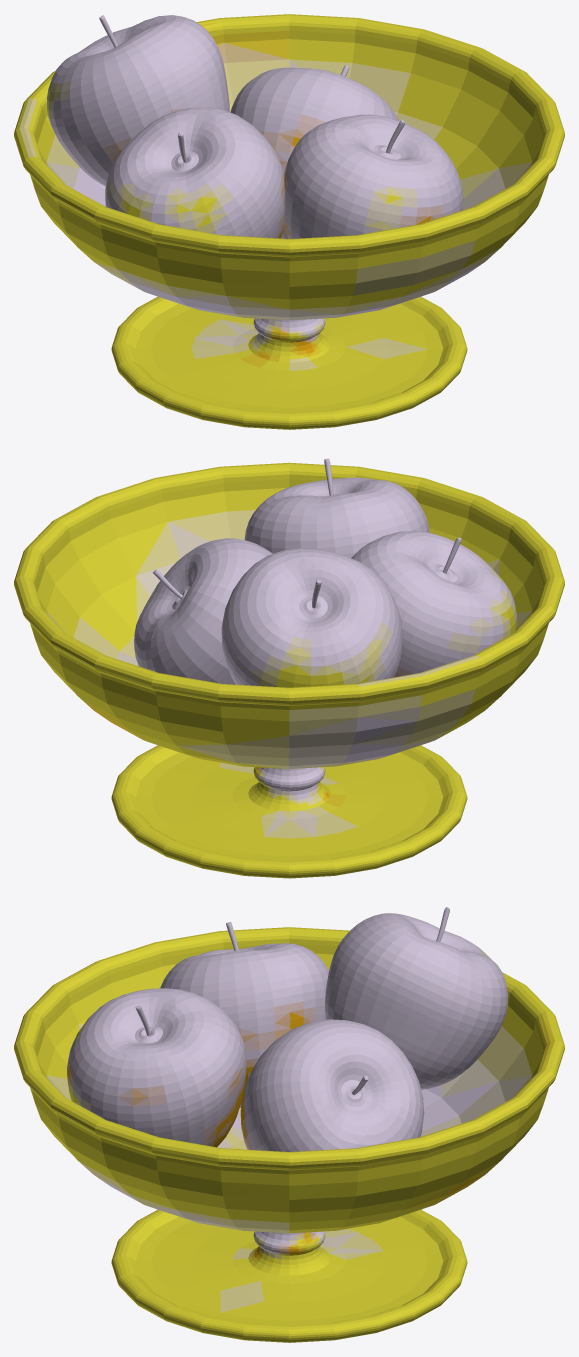
3 renders of one model, top to bottom at view 1: azimuth 30°, elevation 25°; view 2: azimuth 150°, elevation 25°; view 3: azimuth 270°, elevation 25°, orthographic.
Parts seen in each view (by area): view 1: world; view 2: world; view 3: world.
Boxes of the visible parts, <box> form: world: <box>14,14,564,429</box>; world: <box>14,458,564,878</box>; world: <box>14,907,564,1342</box>.
Bounding box in the file's own units: 0.9999 × 0.6225 × 1.
